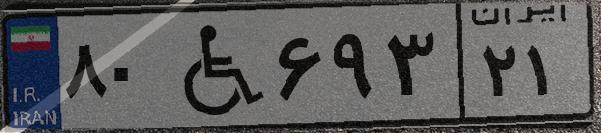0: (110, 28, 158, 98)
1: (525, 38, 570, 115)
2: (475, 38, 525, 113)
3: (385, 28, 445, 110)
6: (270, 28, 330, 110)
8: (57, 26, 110, 100)
9: (330, 28, 385, 110)
ژ (معلولین و جانبازان): (158, 12, 270, 120)
